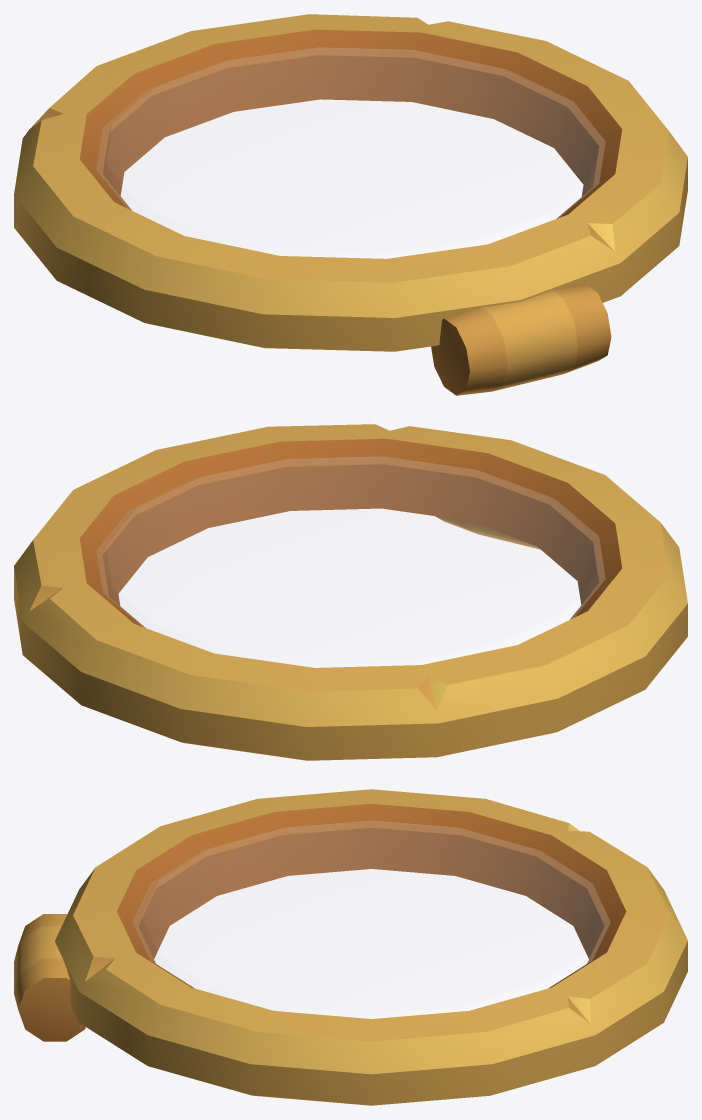
File: compass_base_compass_lid.obj
The picture shows the model from 3 angles, top to bottom: view 1: azimuth 30°, elevation 25°; view 2: azimuth 150°, elevation 25°; view 3: azimuth 270°, elevation 25°; orthographic projection. The views are drawn at different scales.
Visible parts, largest first — view 1: compass_lid; view 2: compass_lid; view 3: compass_lid.
Part boxes in pixels (x1,y1,x2,y2): compass_lid: (14, 14, 687, 395); compass_lid: (14, 424, 687, 760); compass_lid: (14, 789, 687, 1105).
Size of the model in its own units: 0.574 by 0.107 by 0.6113.
2 materials, 1 textured.
